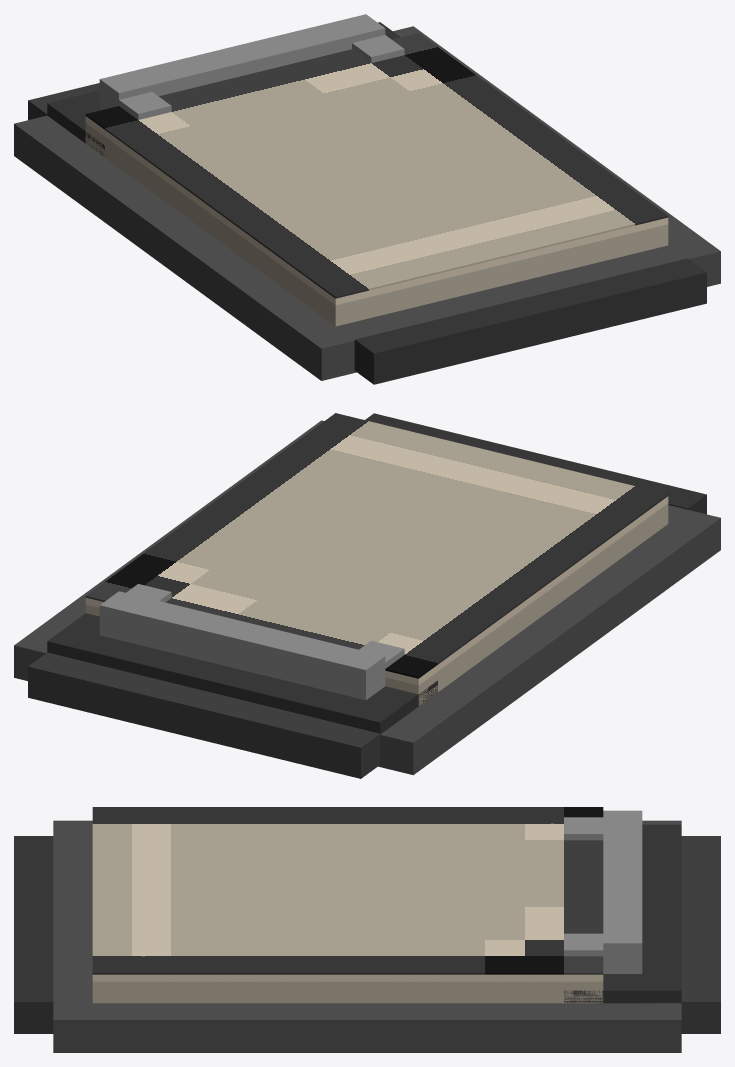
File: CMU3DRMCWeYaClipboardInheritedMiscCloud.glb
3 renders of one model, top to bottom at view 1: azimuth 30°, elevation 25°; view 2: azimuth 150°, elevation 25°; view 3: azimuth 270°, elevation 25°, orthographic. The views are drawn at different scales.
Parts seen in each view (by area): view 1: complete planar top sheet source detail, black board shaped middle, lower board foot, metal spring clip, paper sheet 1, paper sheet 3, paper sheet 4, paper sheet 2, metal clip mounting plate, left clip bridge foot, right clip bridge foot, upper rounded board shoulder; view 2: complete planar top sheet source detail, black board shaped middle, upper rounded board shoulder, metal spring clip, metal clip mounting plate, lower board foot, paper sheet 3, paper sheet 4, paper sheet 1, paper sheet 2, left clip bridge foot, right clip bridge foot; view 3: complete planar top sheet source detail, black board shaped middle, metal clip mounting plate, upper rounded board shoulder, lower board foot, metal spring clip, paper sheet 1, paper sheet 4, paper sheet 3, paper sheet 2, right clip bridge foot, left clip bridge foot.
Part boxes in pixels (x1,y1,x2,y2): complete planar top sheet source detail: (85,33,668,298); black board shaped middle: (14,26,720,380); lower board foot: (354,258,706,384); metal spring clip: (99,14,385,109); paper sheet 1: (85,136,668,326); paper sheet 3: (85,123,668,312); paper sheet 4: (85,116,668,305); paper sheet 2: (85,130,668,319); metal clip mounting plate: (47,22,400,156); left clip bridge foot: (99,87,171,119); right clip bridge foot: (352,35,404,63); upper rounded board shoulder: (28,83,99,128); complete planar top sheet source detail: (85,413,668,678); black board shaped middle: (14,420,720,775); upper rounded board shoulder: (28,652,383,778); metal spring clip: (99,591,385,700); metal clip mounting plate: (47,613,437,734); lower board foot: (365,413,706,514); paper sheet 3: (85,503,668,692); paper sheet 4: (85,496,668,685); paper sheet 1: (418,517,668,705); paper sheet 2: (85,510,668,698); left clip bridge foot: (332,640,404,699); right clip bridge foot: (99,584,171,642); complete planar top sheet source detail: (92,807,603,974); black board shaped middle: (53,820,681,1052); metal clip mounting plate: (564,824,681,1003); upper rounded board shoulder: (642,836,720,1033); lower board foot: (14,836,53,1033); metal spring clip: (603,810,642,973); paper sheet 1: (92,995,603,1003); paper sheet 4: (92,974,603,982); paper sheet 3: (92,981,603,989); paper sheet 2: (92,988,603,996); right clip bridge foot: (564,933,642,973); left clip bridge foot: (564,817,603,840).
Bounding box in the file's own units: 0.375 × 0.067 × 0.5625.
7 materials, 1 textured.
